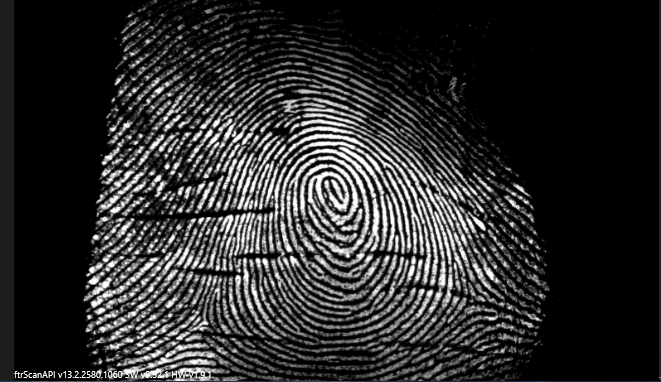nucelo: (310, 169, 354, 211)
verticilo: (182, 306, 219, 336), (459, 280, 489, 308)
